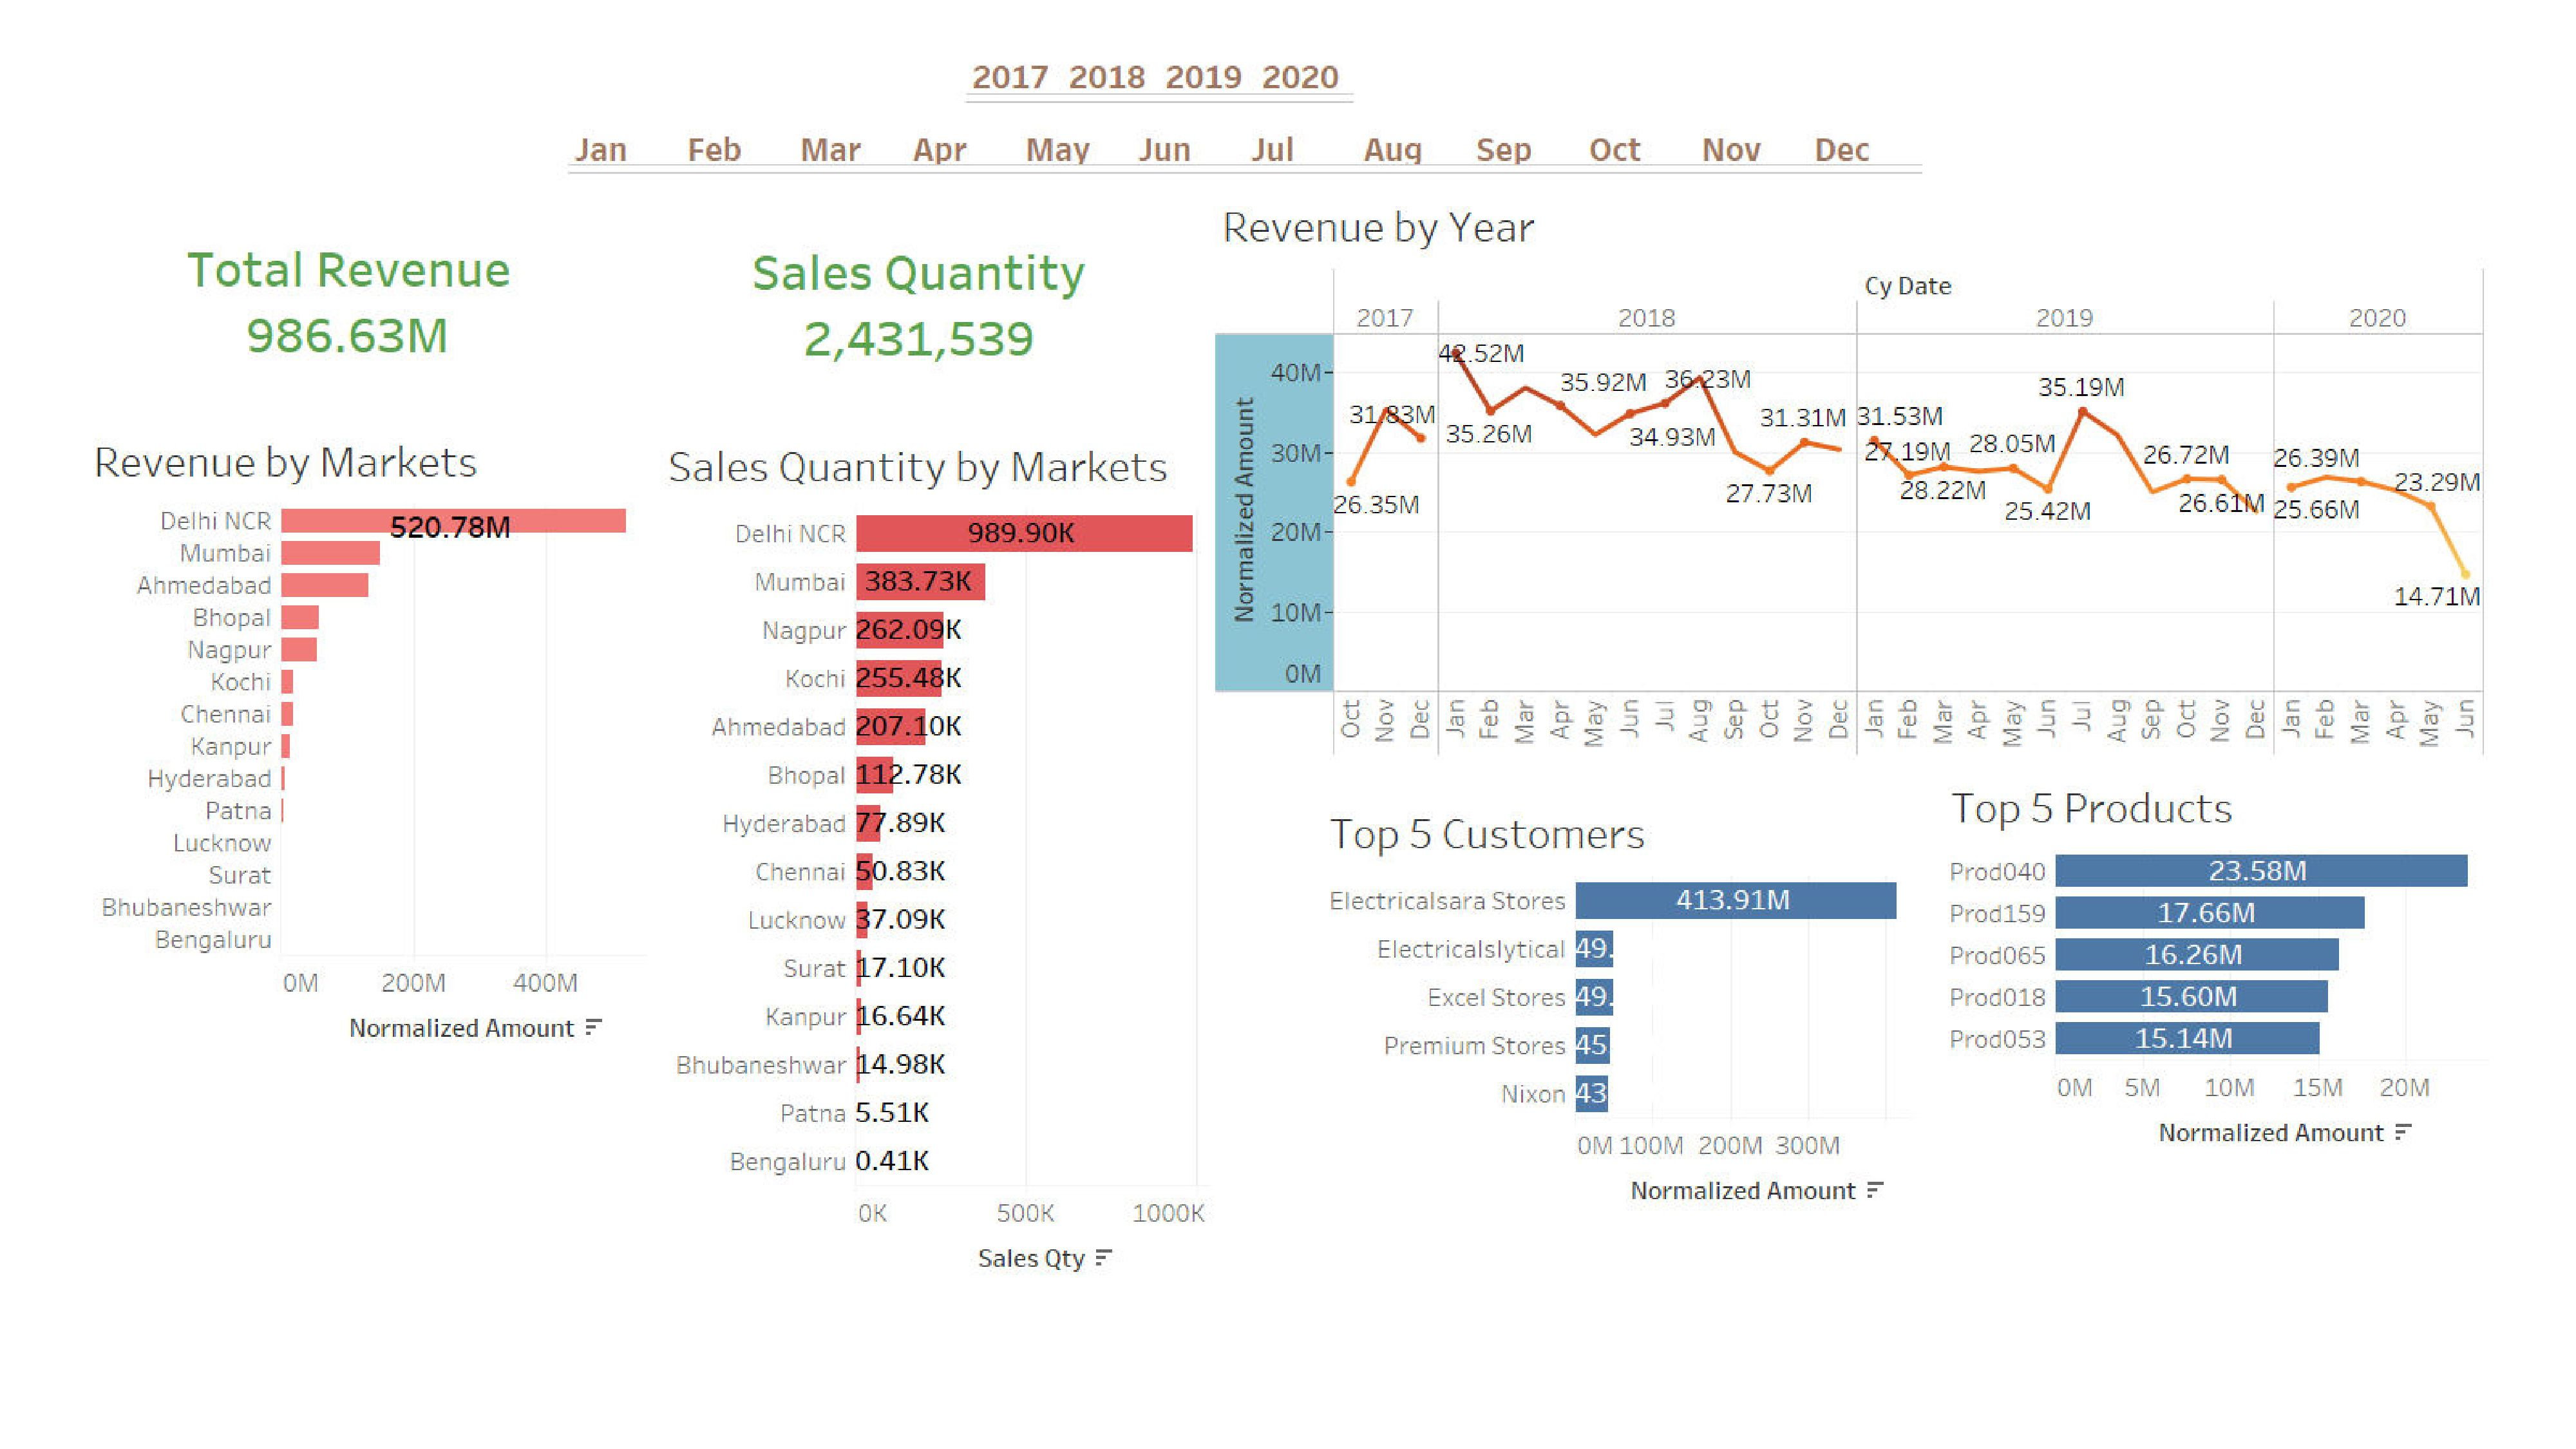

What the dashboard file says about the page in this screenshot:
{"tool":"tableau","page":{"name":"Dashboard-Revenue Analysis","canvas":[1500,900],"ordinal":1},"visuals":[{"type":"worksheet","title":"Year","mark":"Automatic","cols":["cy_date"],"box":[550,21,310,55]},{"type":"worksheet","title":"Month","mark":"Automatic","cols":["cy_date"],"box":[303,66,869,48]},{"type":"worksheet","title":"Revenue by Year","mark":"Automatic","rows":["Calculation_980940356462510080"],"cols":["cy_date","cy_date"],"box":[705,117,788,353]},{"type":"worksheet","title":"Revenue","mark":"Automatic","box":[57,146,248,88]},{"type":"worksheet","title":"Quantity","mark":"Automatic","box":[412,148,261,93]},{"type":"worksheet","title":"Top 5 Products","mark":"Automatic","rows":["product_code (products)"],"cols":["Calculation_980940356462510080"],"box":[1158,478,338,287]},{"type":"worksheet","title":"Top 5 Customers","mark":"Automatic","rows":["custmer_name"],"cols":["Calculation_980940356462510080"],"box":[772,494,366,360]}]}

Visuals, with their boxes on the page's 1500x900 design canvas (x1, y1, x2, y2). These are canvas units, not pixel positions in the 2576x1449 screenshot, which may show the page scaled, cropped or inside an application window:
"Year" worksheet: [550, 21, 860, 76]
"Month" worksheet: [303, 66, 1172, 114]
"Revenue by Year" worksheet: [705, 117, 1493, 470]
"Revenue" worksheet: [57, 146, 305, 234]
"Quantity" worksheet: [412, 148, 673, 241]
"Top 5 Products" worksheet: [1158, 478, 1496, 765]
"Top 5 Customers" worksheet: [772, 494, 1138, 854]
